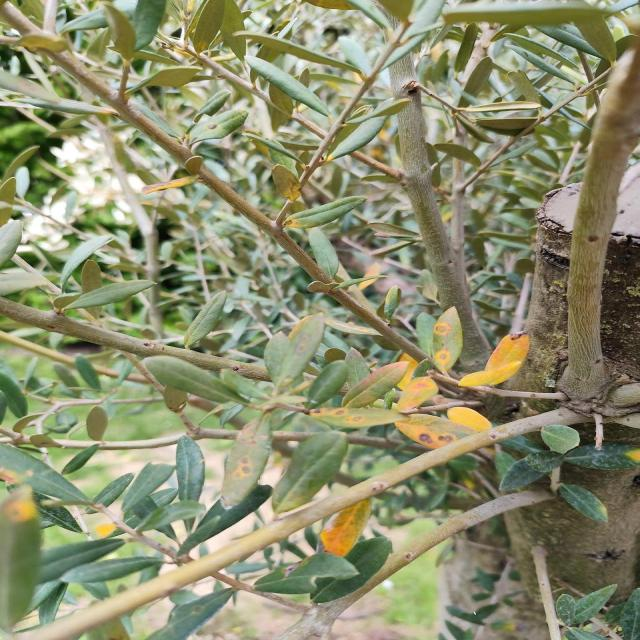Peacock Eye: (221, 413, 272, 506), (147, 588, 234, 640), (459, 332, 529, 387), (343, 362, 409, 407), (320, 500, 371, 557), (394, 414, 477, 449), (285, 196, 367, 229), (309, 408, 409, 428), (433, 306, 462, 374), (190, 110, 248, 144), (397, 376, 437, 411), (271, 164, 301, 203), (448, 407, 491, 432)
